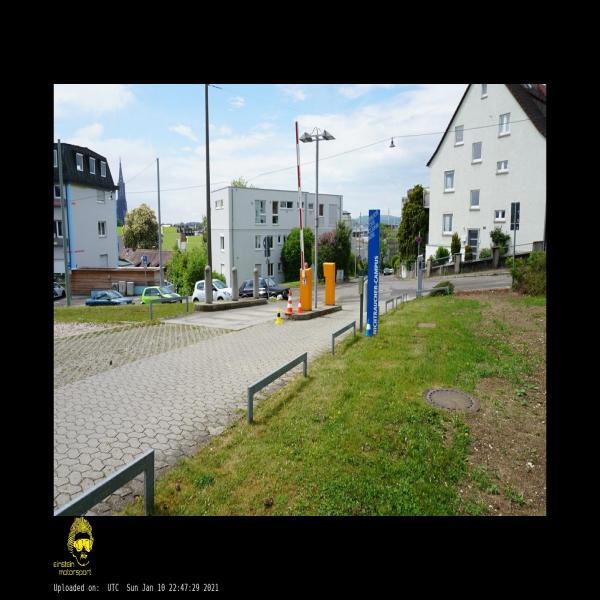blue_cone: (364, 319, 372, 336)
large_orange_cone: (285, 291, 294, 314)
orange_cone: (297, 298, 303, 312)
yellow_cone: (275, 308, 282, 323)
